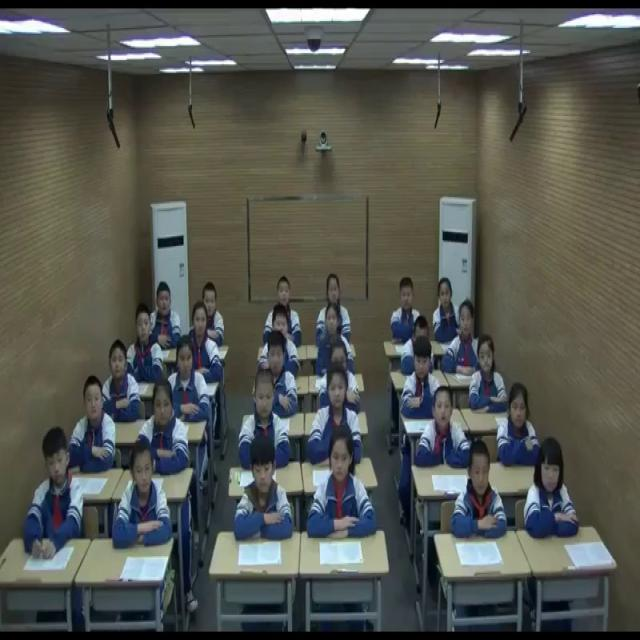focused: (308, 422, 377, 542), (233, 440, 295, 545), (27, 427, 82, 544), (117, 438, 173, 550), (310, 360, 365, 468), (523, 437, 580, 537), (452, 441, 508, 542), (239, 372, 292, 466), (68, 377, 119, 474), (142, 379, 190, 473), (170, 339, 217, 431), (418, 393, 472, 472), (499, 382, 541, 468), (258, 338, 301, 416), (404, 336, 444, 418), (100, 341, 141, 421), (263, 278, 303, 356), (468, 337, 507, 413), (318, 305, 358, 377), (446, 305, 485, 378), (129, 308, 164, 387), (264, 305, 300, 379), (190, 304, 222, 384), (146, 283, 183, 351), (320, 276, 356, 344), (391, 275, 422, 336), (199, 284, 227, 351), (431, 280, 462, 339)
